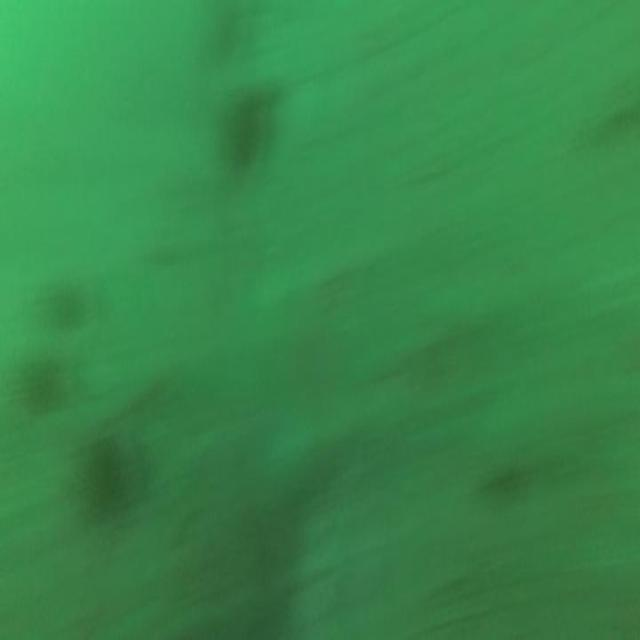echinus: (82, 430, 130, 521), (226, 71, 266, 174), (24, 345, 66, 417)
